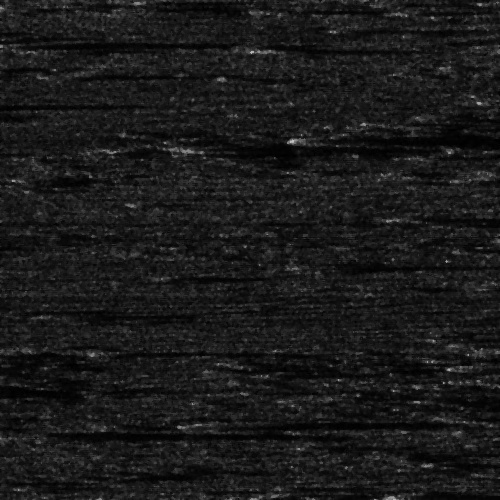object: (0, 35, 89, 48), (424, 359, 500, 370), (137, 142, 230, 149), (266, 135, 339, 142), (0, 427, 46, 438), (450, 374, 500, 383), (65, 347, 138, 352), (195, 417, 226, 428), (32, 311, 95, 316), (308, 252, 319, 279), (373, 214, 426, 219), (439, 413, 480, 418), (254, 46, 285, 51), (450, 497, 491, 500), (390, 492, 421, 495)
shadow: (313, 252, 483, 279), (10, 427, 270, 438), (37, 35, 228, 48), (211, 417, 418, 428), (184, 142, 391, 149), (303, 135, 500, 142), (102, 347, 294, 352), (0, 384, 60, 395), (270, 46, 402, 51), (64, 311, 177, 316), (400, 214, 500, 219), (0, 103, 122, 106), (471, 359, 500, 370), (406, 492, 500, 495), (459, 413, 500, 418), (482, 374, 500, 383), (0, 249, 31, 254)
